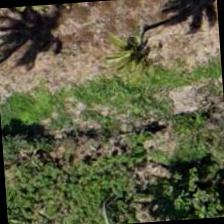Kelapa_Sawit: (94, 0, 190, 79)
